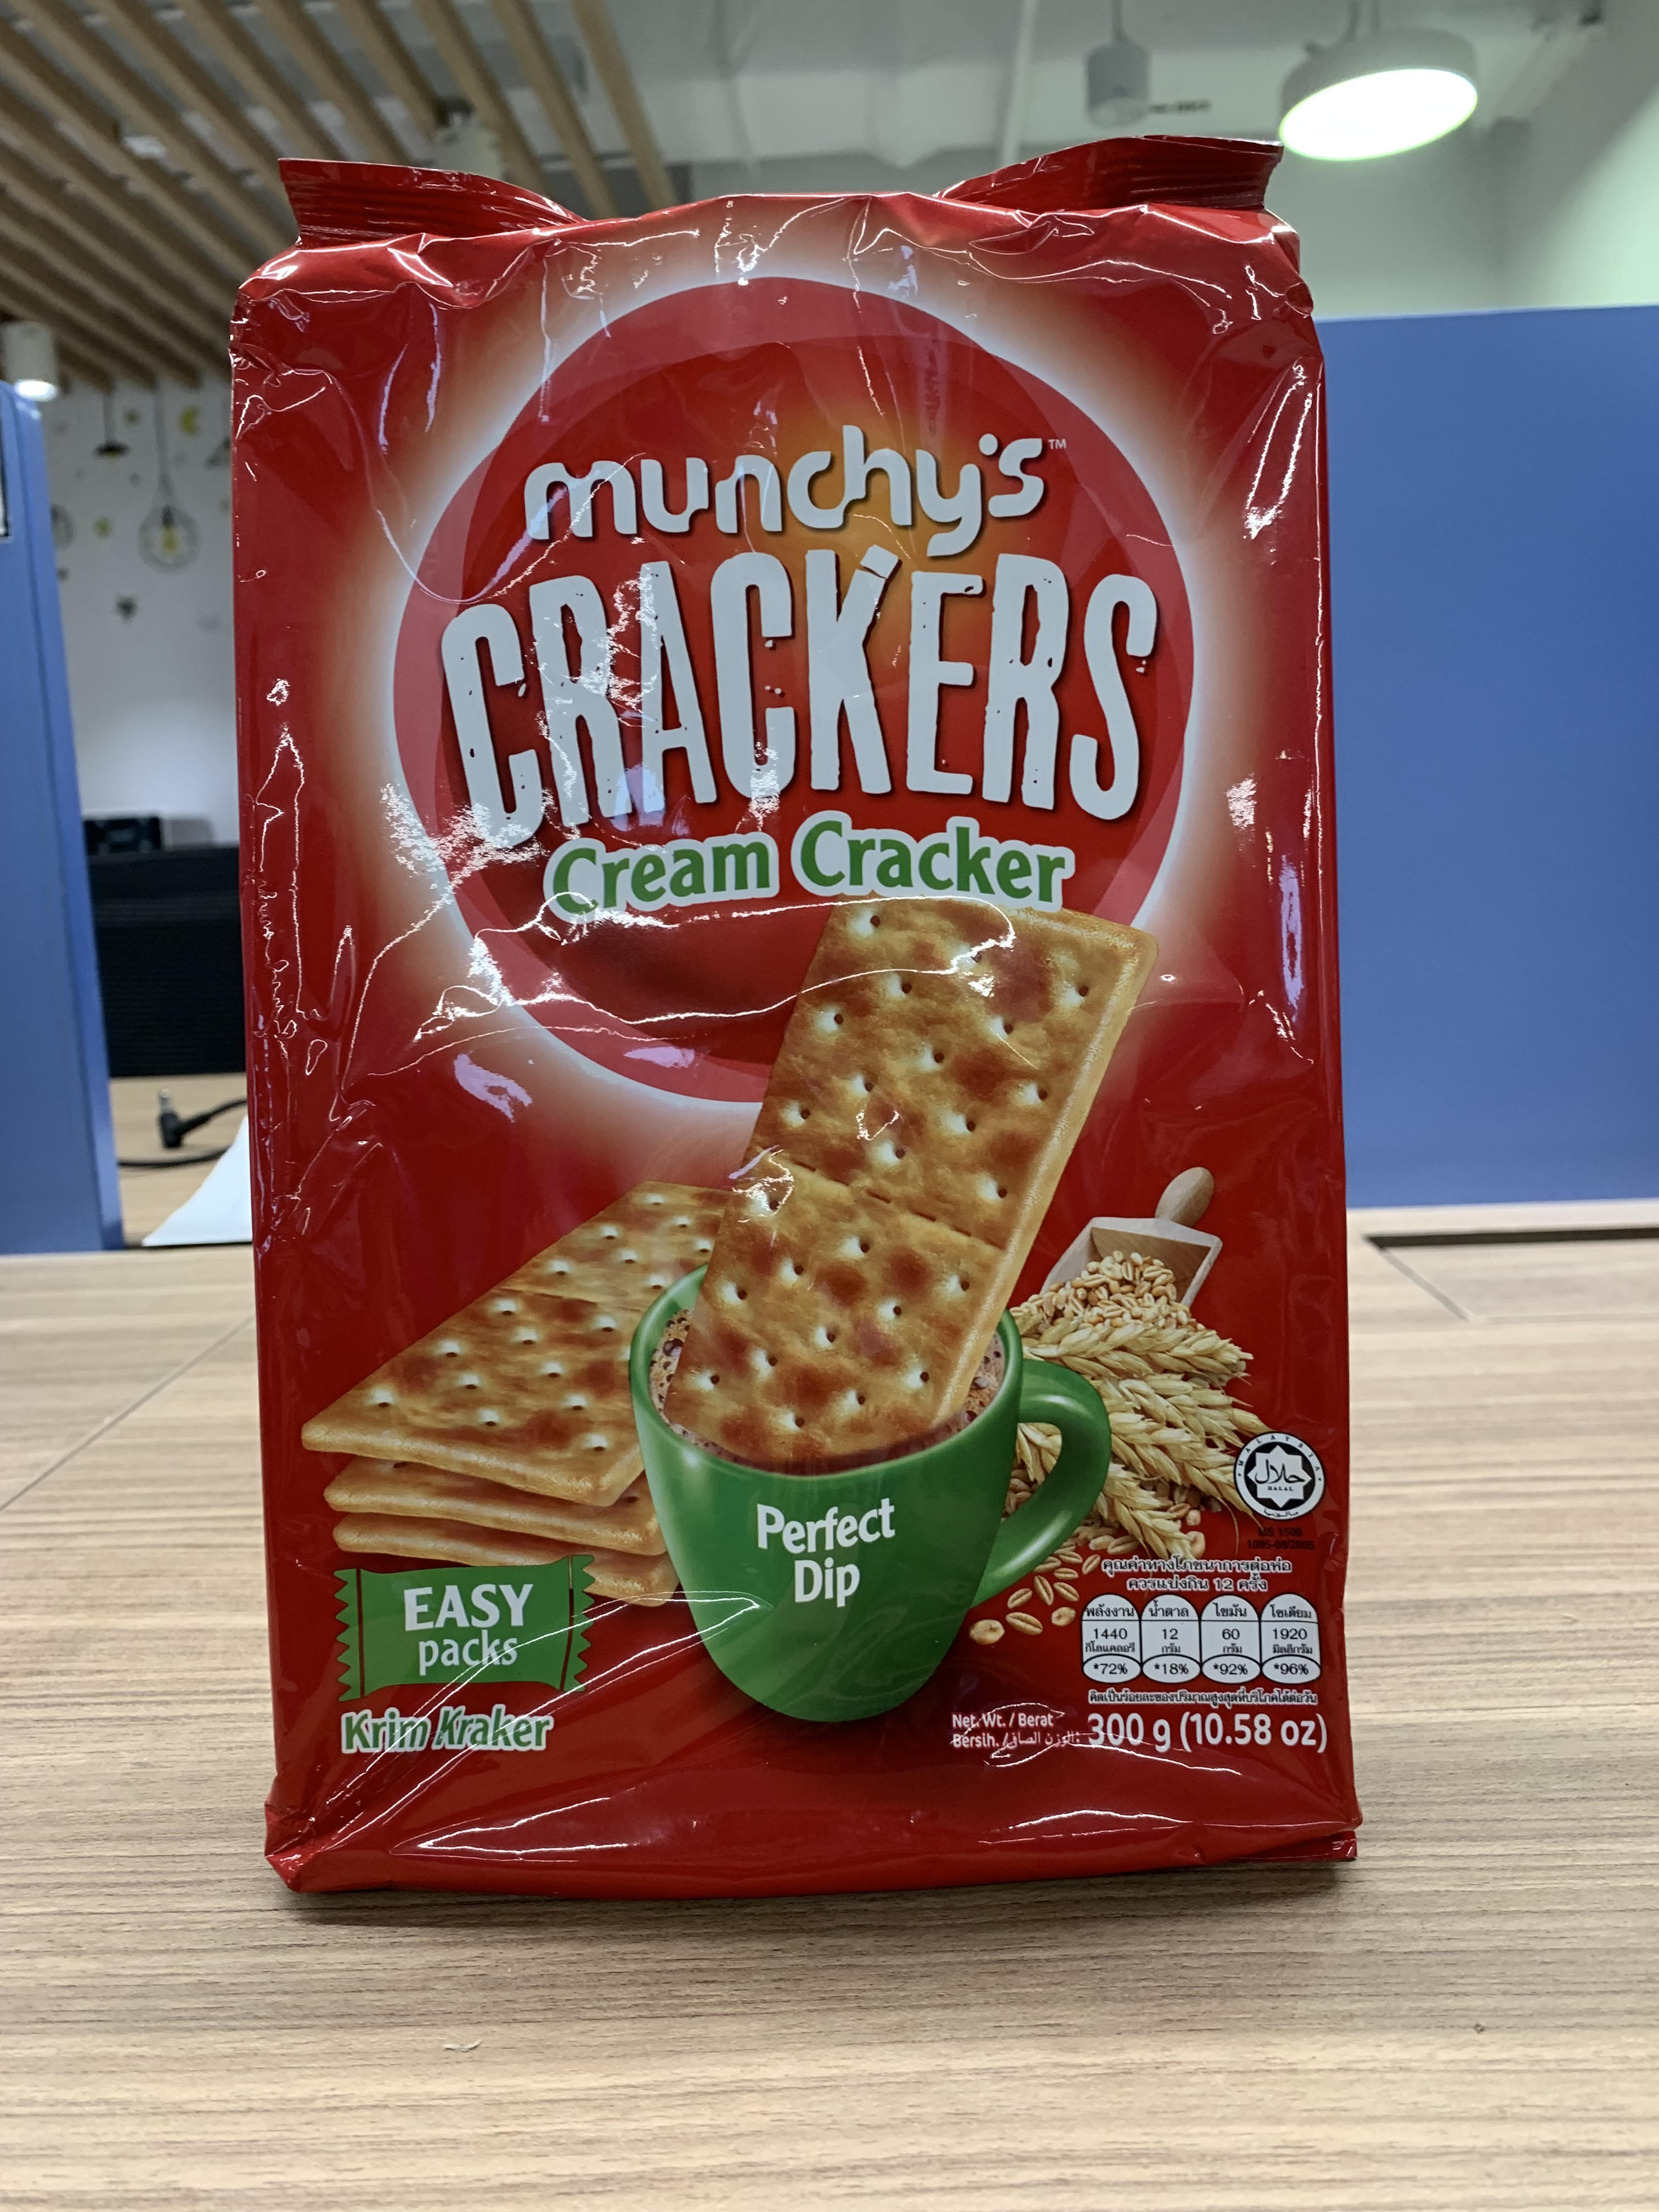crackers: (216, 99, 1352, 1918)
